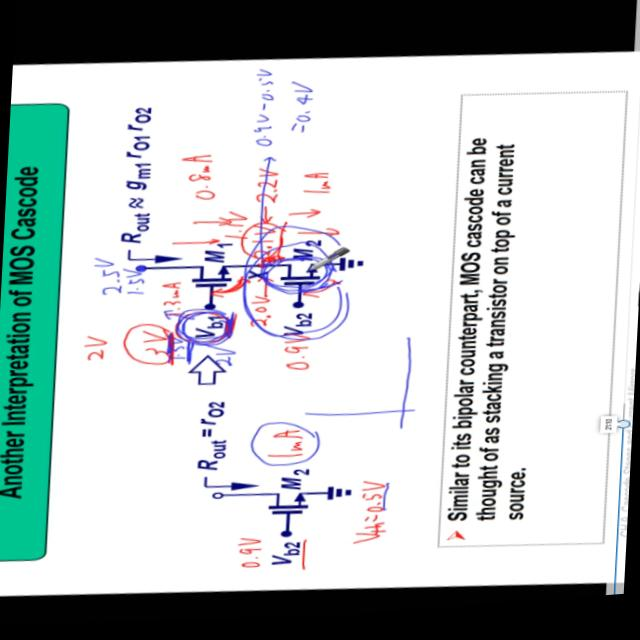panseo: (73, 252, 188, 380), (245, 64, 332, 162), (241, 163, 300, 266), (343, 474, 408, 559), (182, 143, 227, 211), (270, 332, 324, 380), (302, 170, 332, 202)
